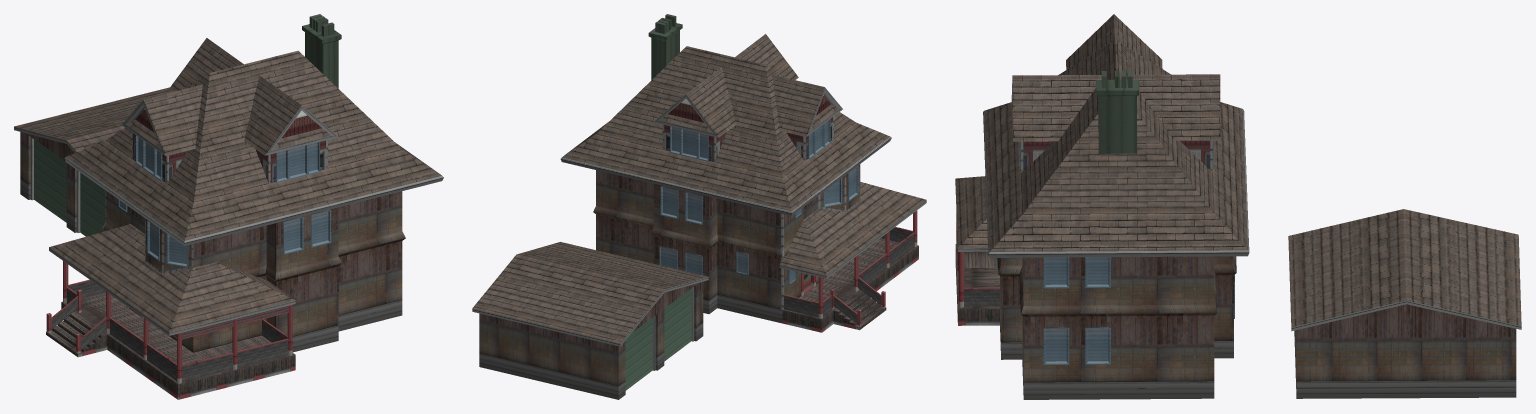
File: house2.dae
3 views of the same model, side by side, from view 1: azimuth 30°, elevation 25°; view 2: azimuth 150°, elevation 25°; view 3: azimuth 270°, elevation 25° (orthographic). The views are drawn at different scales.
Visible parts, largest first — view 1: mesh0001, mesh0004, mesh0002, mesh0003, mesh0006, mesh0000, mesh0005; view 2: mesh0001, mesh0004, mesh0002, mesh0000, mesh0003, mesh0006, mesh0005; view 3: mesh0001, mesh0004, mesh0000, mesh0005, mesh0002, mesh0003, mesh0006.
Boxes of the visible parts, bbox=[...] form: mesh0001: bbox=[14, 38, 441, 332]; mesh0004: bbox=[14, 100, 443, 352]; mesh0002: bbox=[46, 261, 295, 399]; mesh0003: bbox=[34, 108, 325, 236]; mesh0006: bbox=[51, 281, 288, 381]; mesh0000: bbox=[118, 135, 331, 267]; mesh0005: bbox=[302, 14, 341, 88]; mesh0001: bbox=[472, 34, 926, 343]; mesh0004: bbox=[472, 87, 926, 399]; mesh0002: bbox=[782, 210, 918, 332]; mesh0000: bbox=[659, 119, 860, 284]; mesh0003: bbox=[625, 95, 832, 390]; mesh0006: bbox=[783, 228, 914, 323]; mesh0005: bbox=[648, 14, 682, 79]; mesh0001: bbox=[955, 14, 1521, 327]; mesh0004: bbox=[955, 83, 1521, 399]; mesh0000: bbox=[1019, 140, 1234, 364]; mesh0005: bbox=[1096, 70, 1139, 153]; mesh0002: bbox=[955, 213, 999, 325]; mesh0003: bbox=[1020, 140, 1210, 170]; mesh0006: bbox=[964, 289, 999, 306].
Bounding box in the file's own units: 6.49 × 9.13 × 5.43.
Materials: 7 (7 with a texture image).
